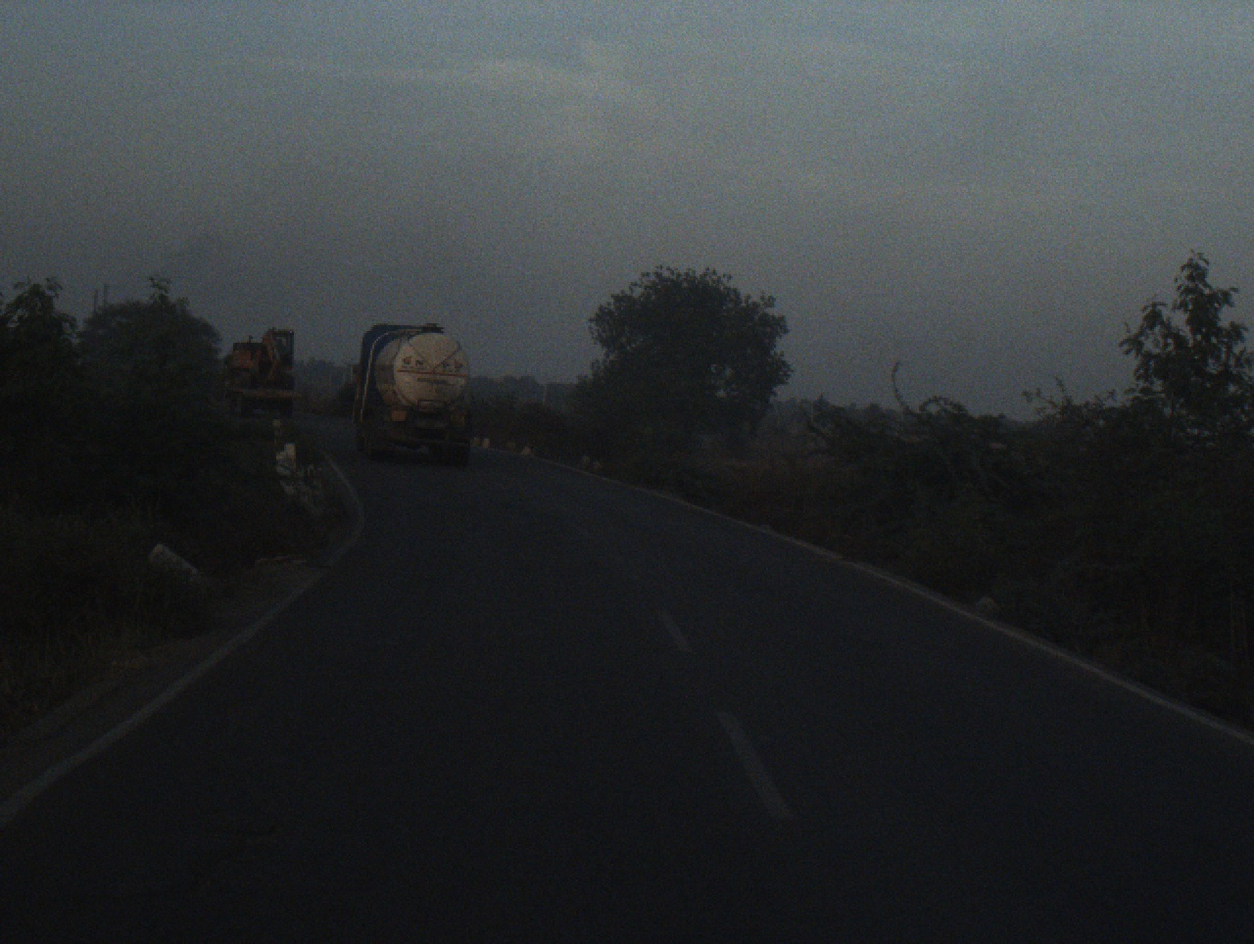truck: (351, 318, 479, 479)
vehicle fallback: (218, 327, 303, 431)
